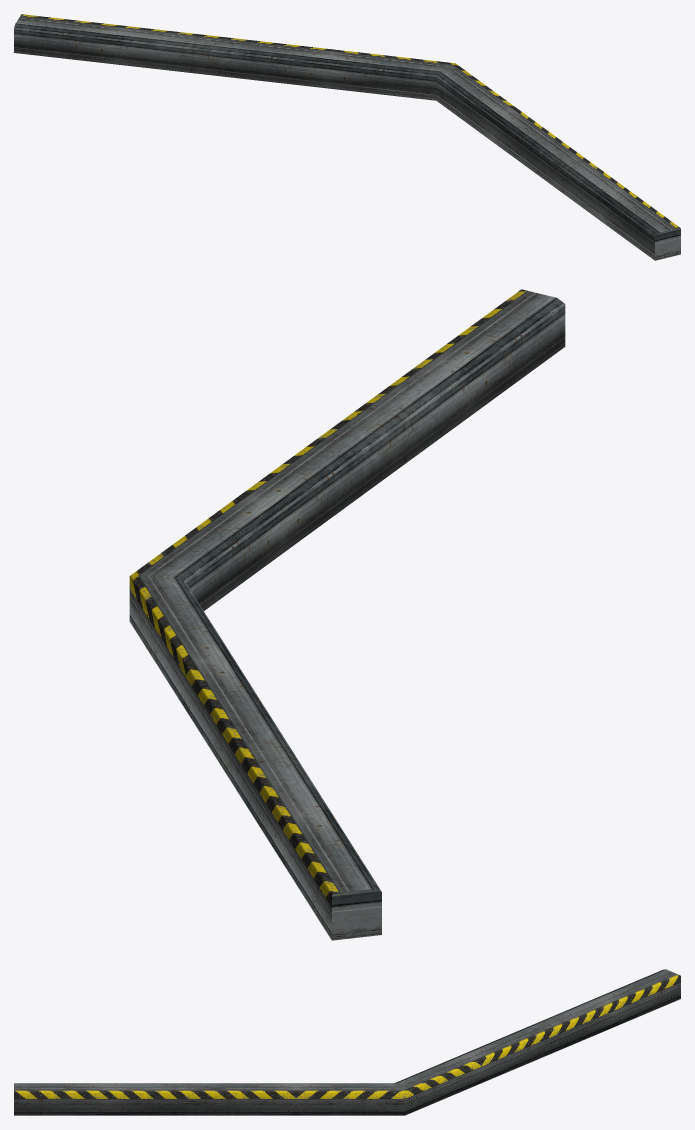
Rendered from Edges_14.fbx.
3 renders of one model, top to bottom at view 1: azimuth 30°, elevation 25°; view 2: azimuth 150°, elevation 25°; view 3: azimuth 270°, elevation 25°, orthographic. The views are drawn at different scales.
Visible parts, largest first — view 1: Edges_14; view 2: Edges_14; view 3: Edges_14.
Boxes of the visible parts, bbox=[...] form: Edges_14: bbox=[14, 14, 680, 260]; Edges_14: bbox=[129, 289, 565, 940]; Edges_14: bbox=[14, 969, 680, 1115].
Size of the model in its own units: 313 by 27.46 by 709.
1 material, 1 textured.
